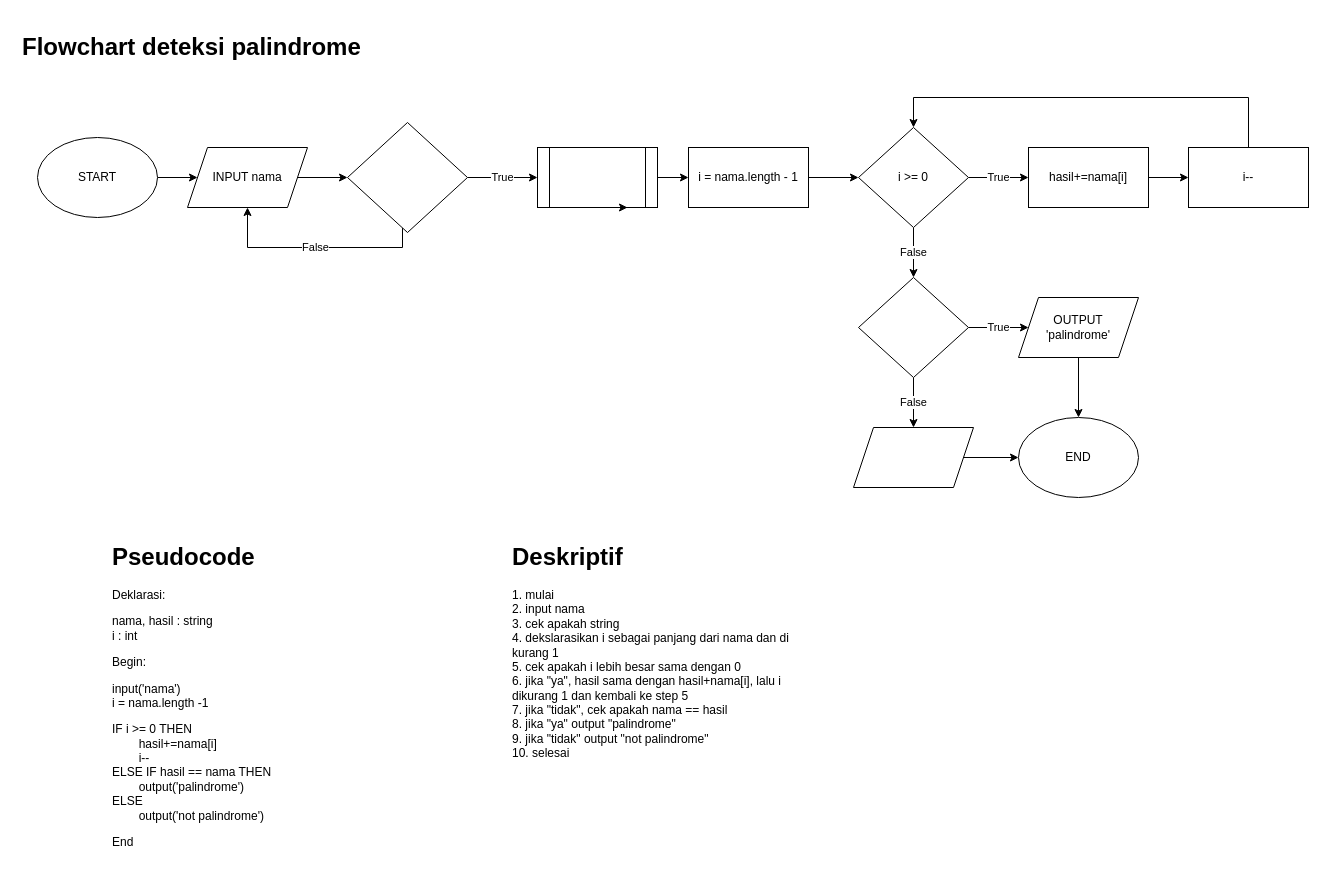
The diagram is 1326 pixels wide and 884 high, and some of its shapes have lost their labels. The shapes that lost their labels are listed below. From the top down, each one's centre as x and y in pixels, then its label:
pixel 407 177: nama === STRING
pixel 597 177: i, hasil
pixel 913 327: hasil == nama
pixel 913 457: OUTPUT 'not palindrome'
